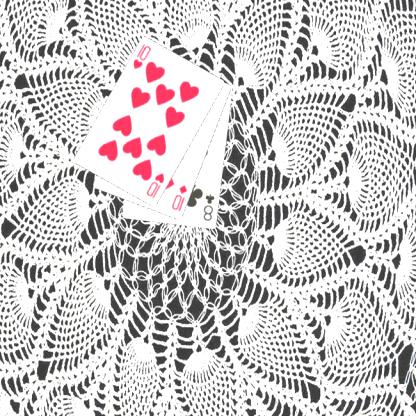10D: (169, 183, 189, 213)
10H: (143, 171, 166, 200), (130, 41, 152, 71)
8C: (201, 191, 217, 223)
